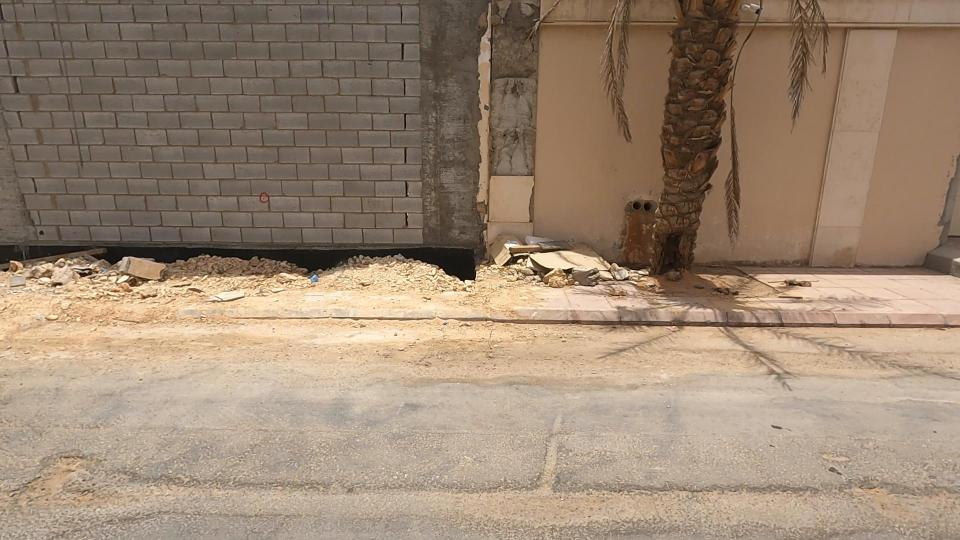GARBAGE: (439, 165, 673, 347), (47, 216, 223, 333), (258, 231, 372, 319)
